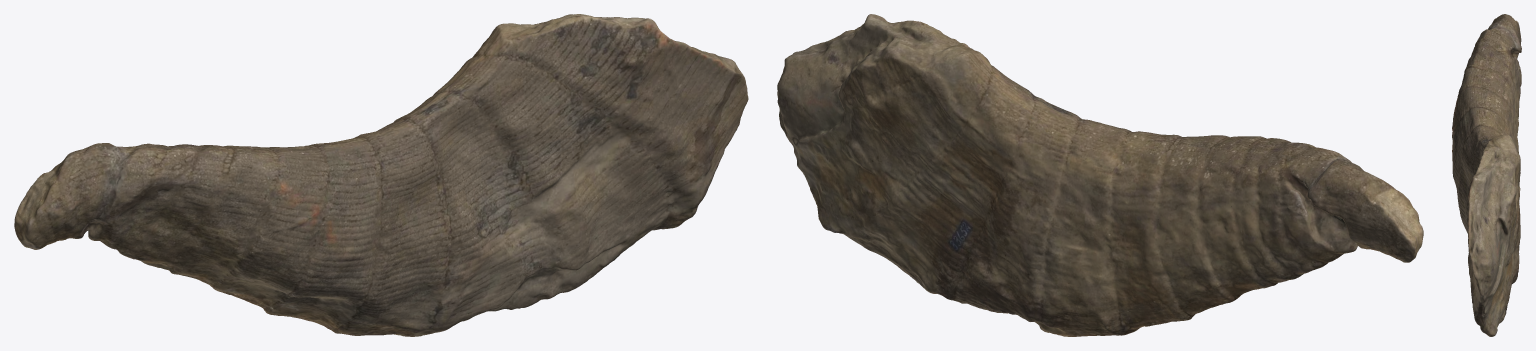
The picture shows the model from 3 angles, left to right: view 1: azimuth 30°, elevation 25°; view 2: azimuth 150°, elevation 25°; view 3: azimuth 270°, elevation 25°; orthographic projection. The views are drawn at different scales.
Parts seen in each view (by area): view 1: Calamites_sp-unwrapped-webmulti; view 2: Calamites_sp-unwrapped-webmulti; view 3: Calamites_sp-unwrapped-webmulti.
Boxes of the visible parts, box(x1,y1,x2,y2) form: Calamites_sp-unwrapped-webmulti: box(14, 14, 748, 336); Calamites_sp-unwrapped-webmulti: box(777, 14, 1423, 336); Calamites_sp-unwrapped-webmulti: box(1452, 14, 1521, 336).
Bounding box in the file's own units: 8930 × 3473 × 1181.
1 material, 1 textured.
